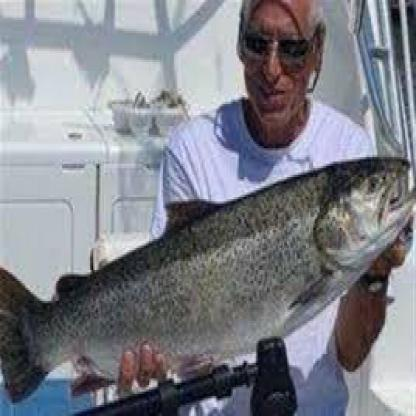fish: (0, 150, 415, 414)
